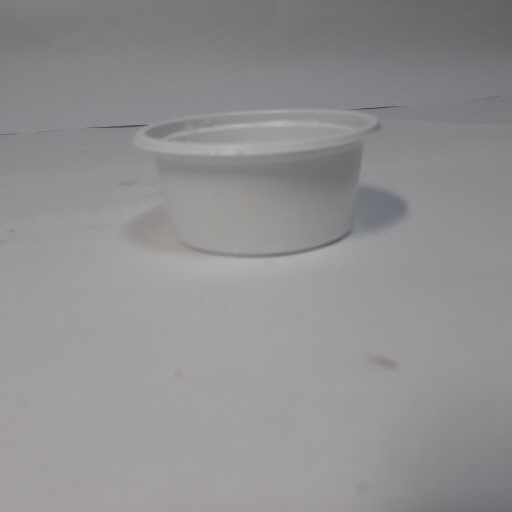Plastic_5: (131, 106, 387, 256)
